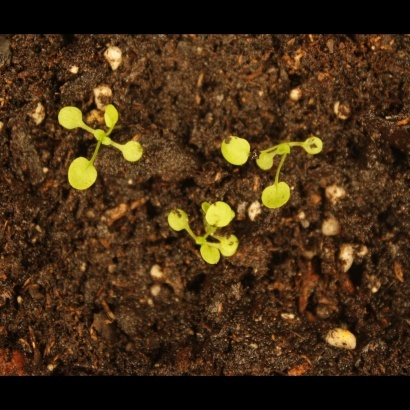leaf: (256, 176, 299, 215), (65, 153, 103, 196), (217, 135, 253, 172), (158, 202, 194, 239), (55, 101, 88, 134), (202, 201, 239, 228), (118, 138, 151, 167), (96, 100, 129, 128), (297, 133, 328, 161), (217, 230, 248, 257), (197, 244, 227, 270), (273, 136, 299, 159), (255, 151, 278, 175)
